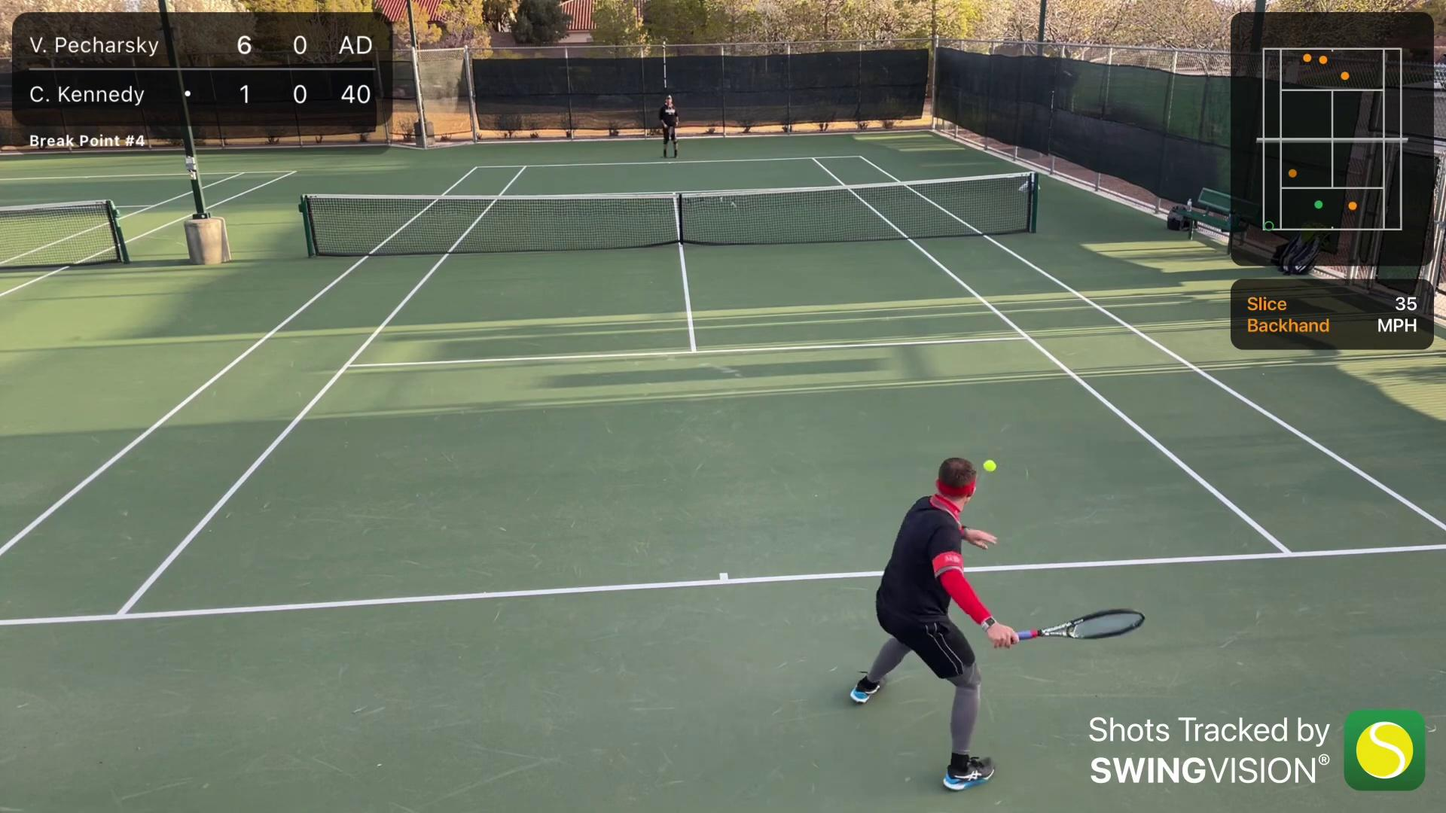ball: (982, 457, 998, 474)
